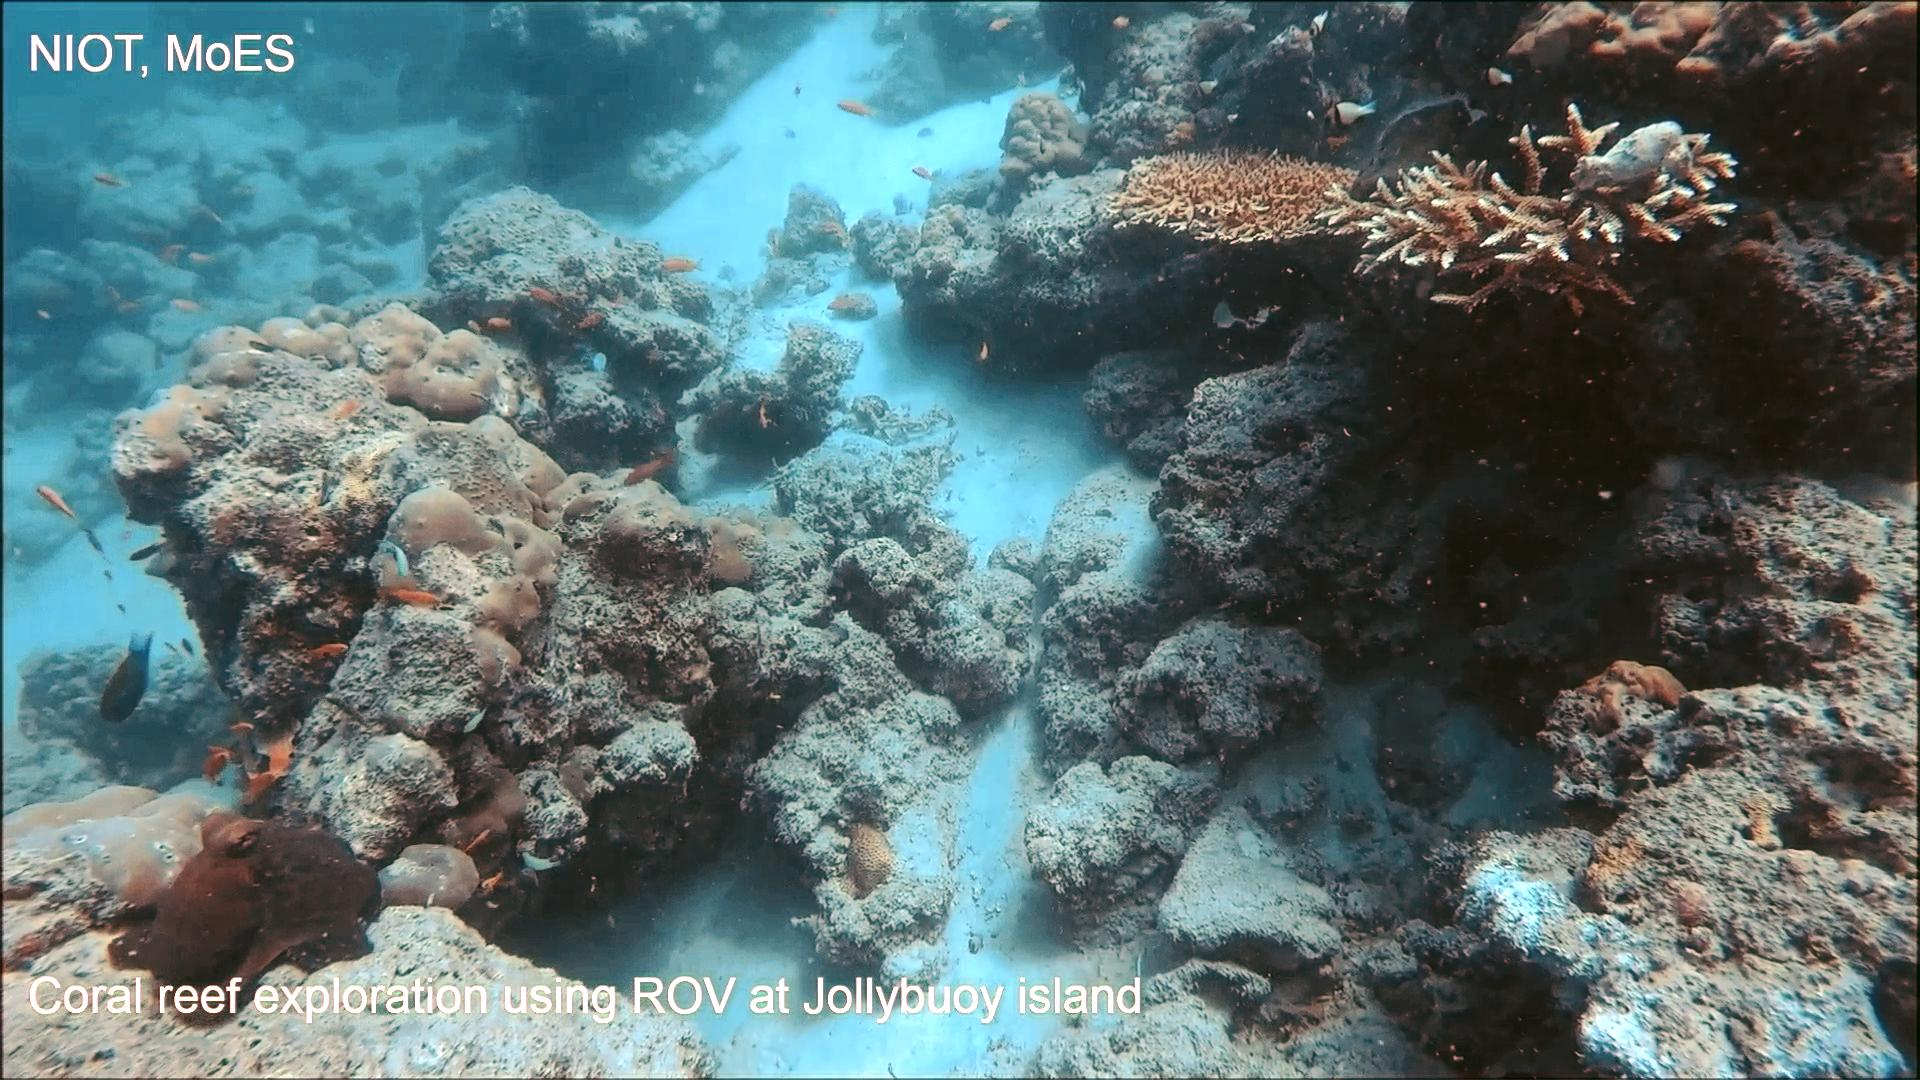Porites-Porites pukoensis: (347, 296, 611, 697)
